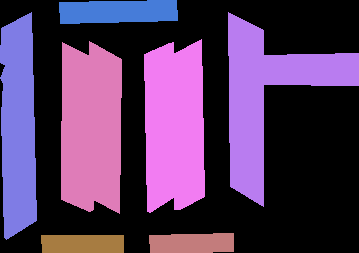parkingspot: (0, 12, 36, 239), (228, 12, 263, 206), (171, 39, 204, 209), (89, 41, 121, 213), (144, 42, 176, 212), (61, 42, 93, 211), (262, 53, 359, 85), (59, 0, 177, 23), (149, 233, 233, 253), (41, 235, 123, 253)
